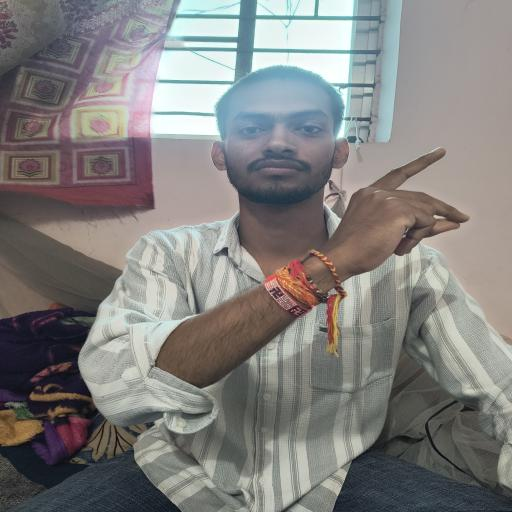Bad: (295, 144, 479, 276)
